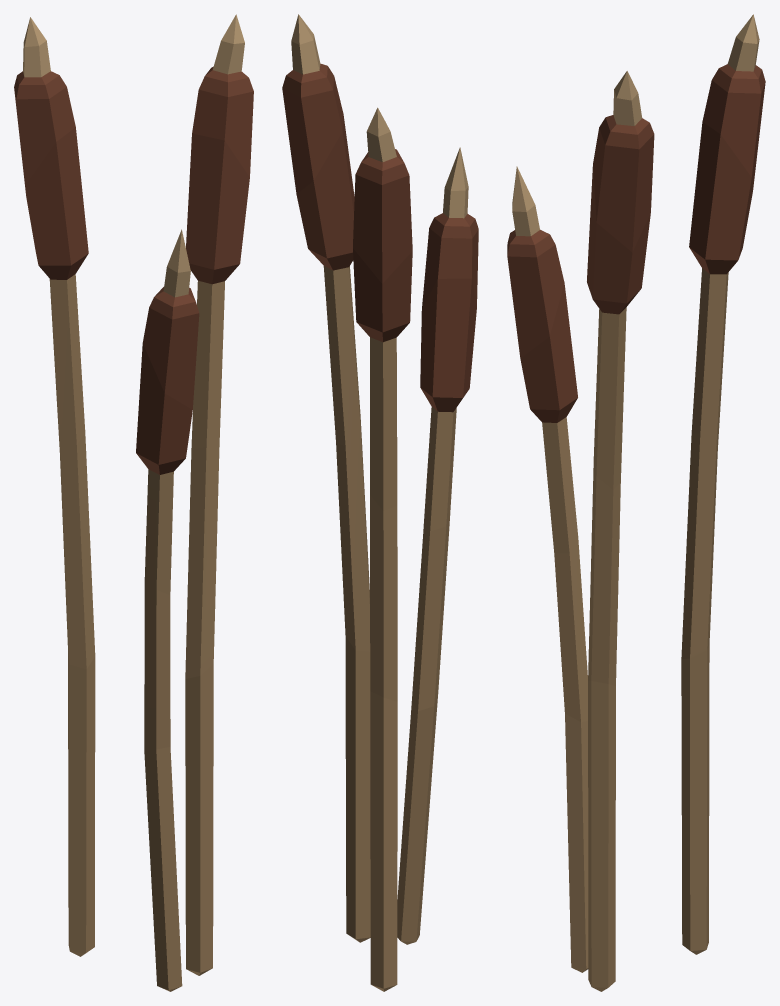
Rendered from bog_reeds.gltf.
The picture shows the model from 3 angles, left to right: view 1: azimuth 30°, elevation 25°; view 2: azimuth 150°, elevation 25°; view 3: azimuth 270°, elevation 25°; orthographic projection. The views are drawn at different scales.
Visible parts, largest first — view 1: bog_reeds; view 2: bog_reeds; view 3: bog_reeds.
Boxes of the visible parts, box(x1,y1,x2,y2) form: bog_reeds: box(14, 14, 253, 991); bog_reeds: box(282, 14, 478, 991); bog_reeds: box(507, 14, 765, 991).
Bounding box in the file's own units: 0.4013 × 2.04 × 0.5048.
Materials: 1 (1 with a texture image).
